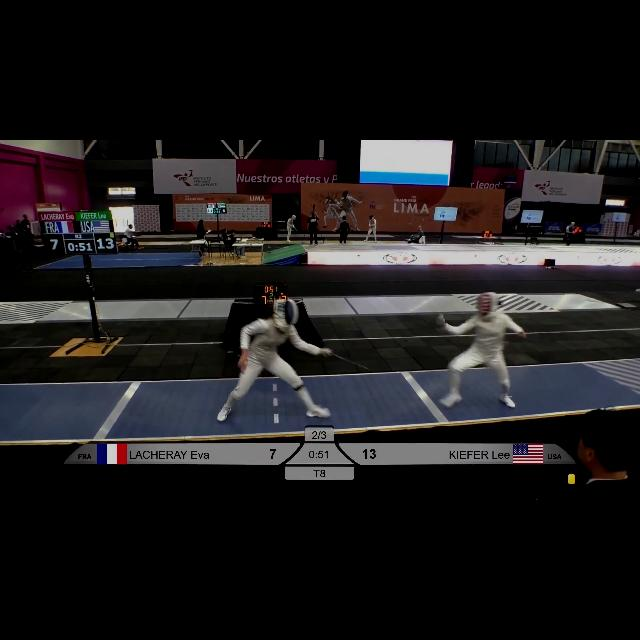blade: (324, 346, 374, 372)
